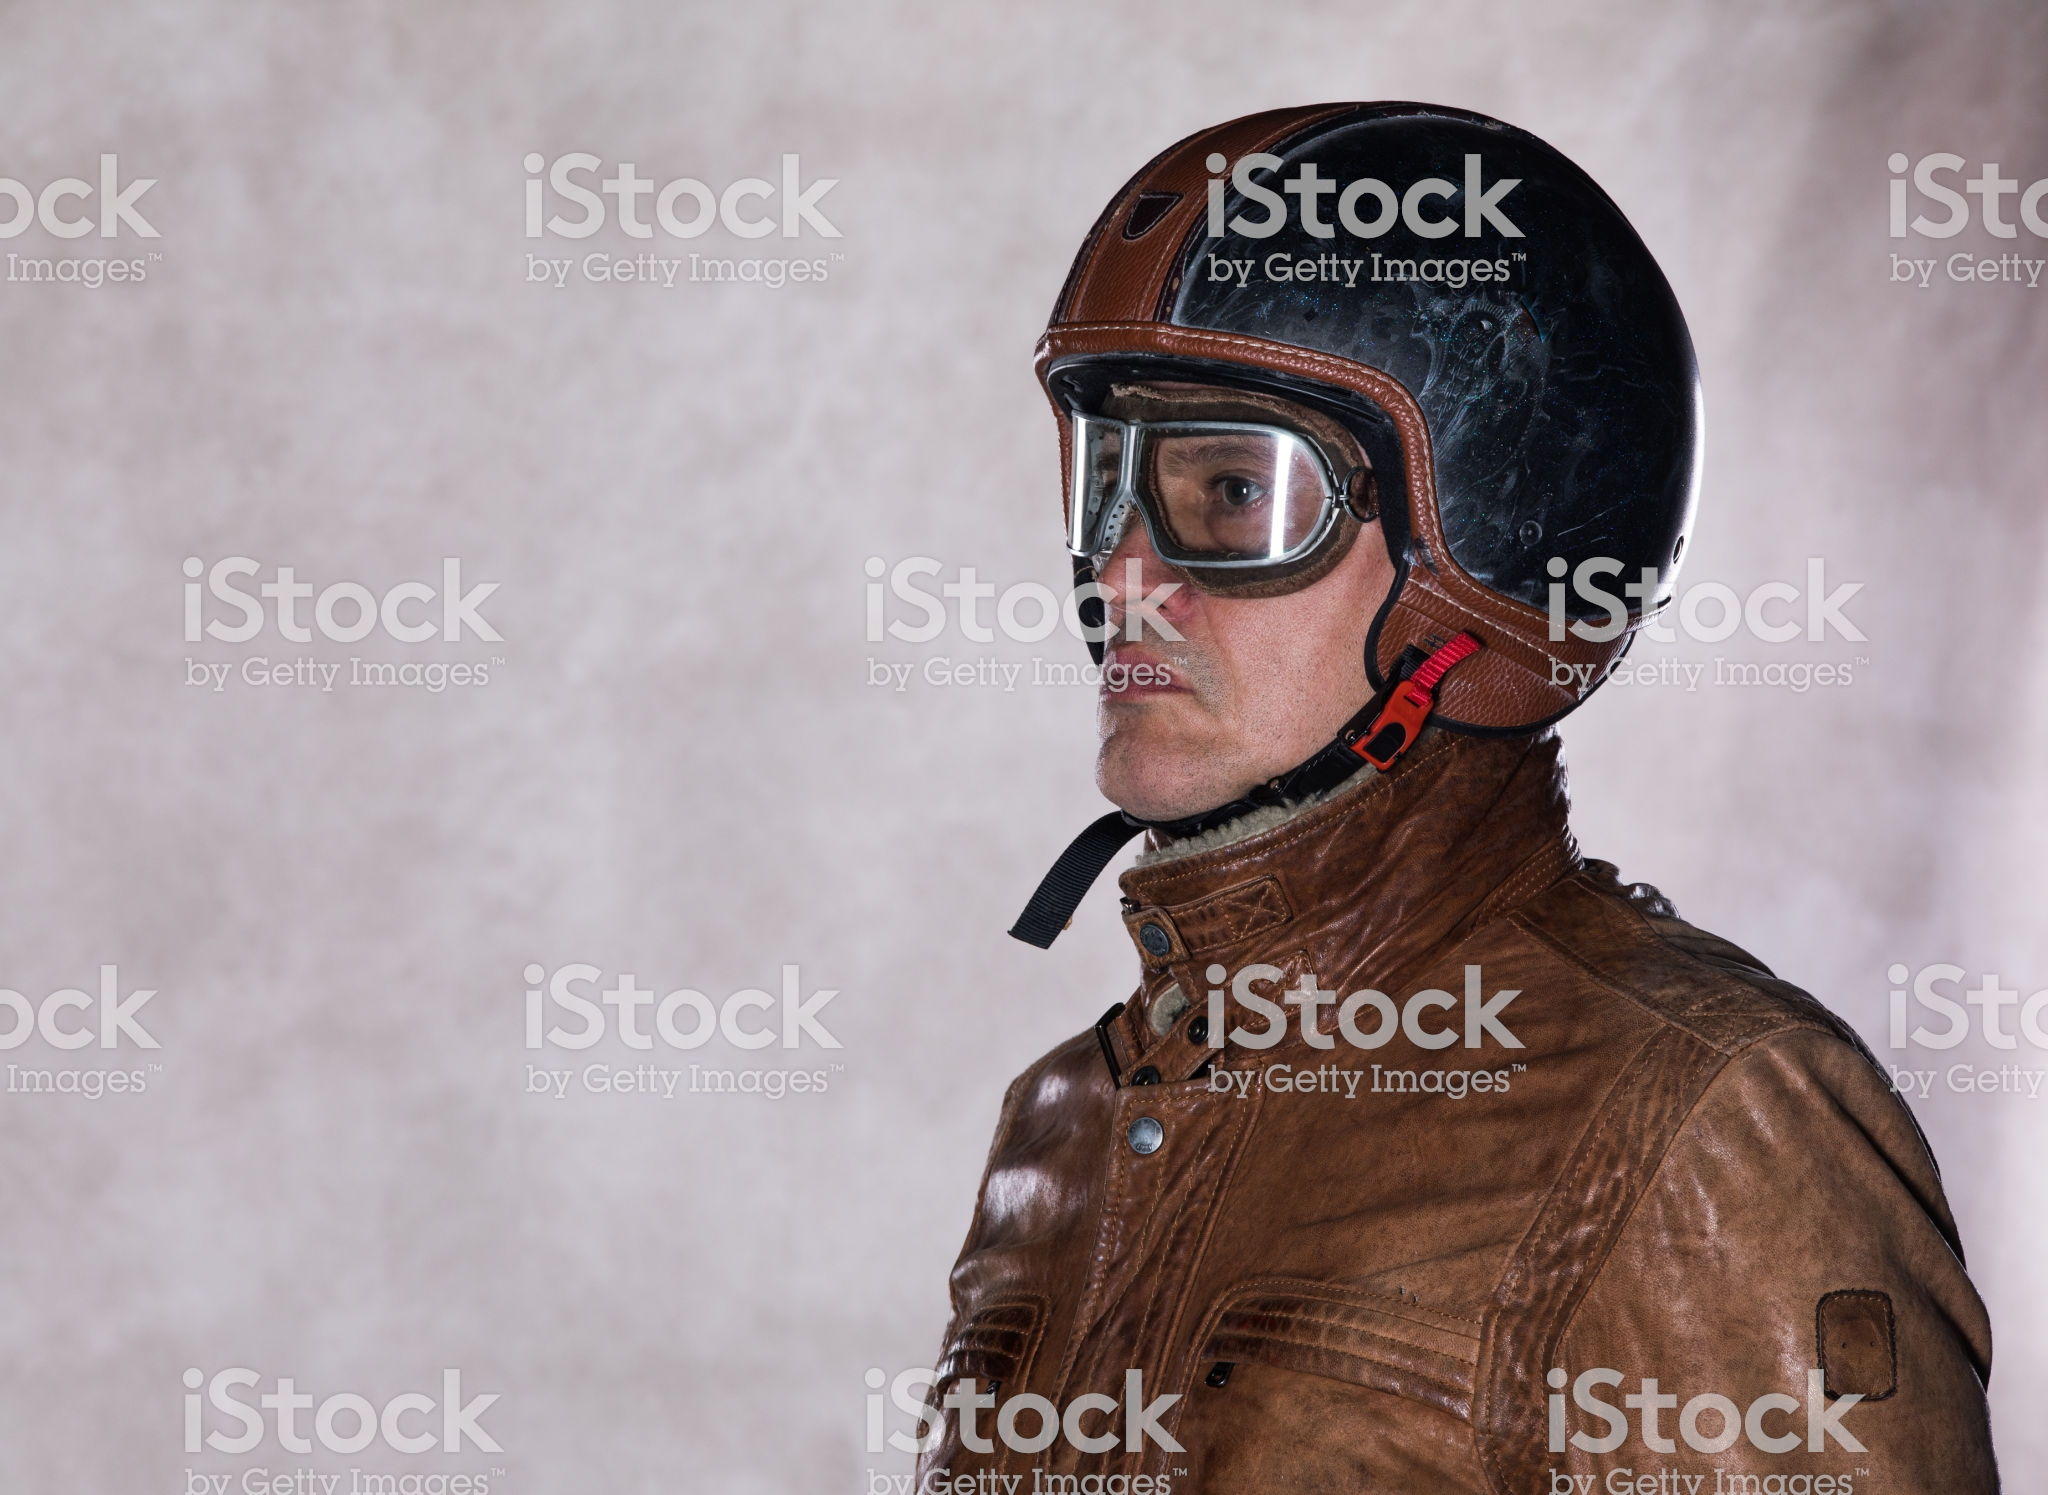helmet: (1064, 99, 1708, 697)
